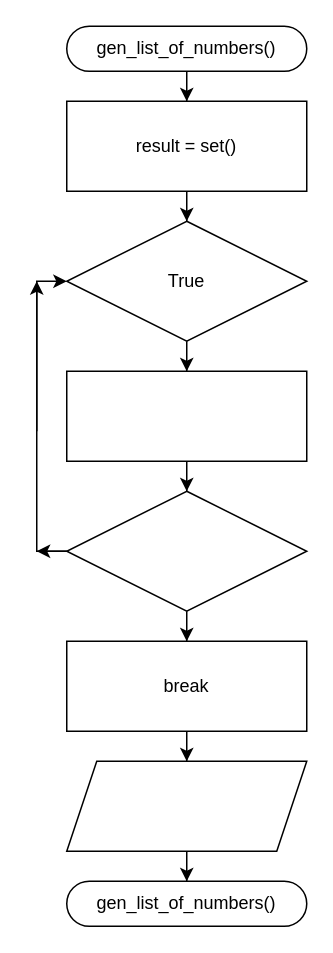
Image size: 333x953. Some labels were removed from this diagram. The shapes that lost their labels are listed below. From the top down, each one's box as (x1, y1, x2, y2) in pixels, then its label:
(65, 370, 307, 461): result.add(randint(0, 9))
(65, 490, 307, 611): len(result) == 4
(65, 760, 307, 851): print(*result)
